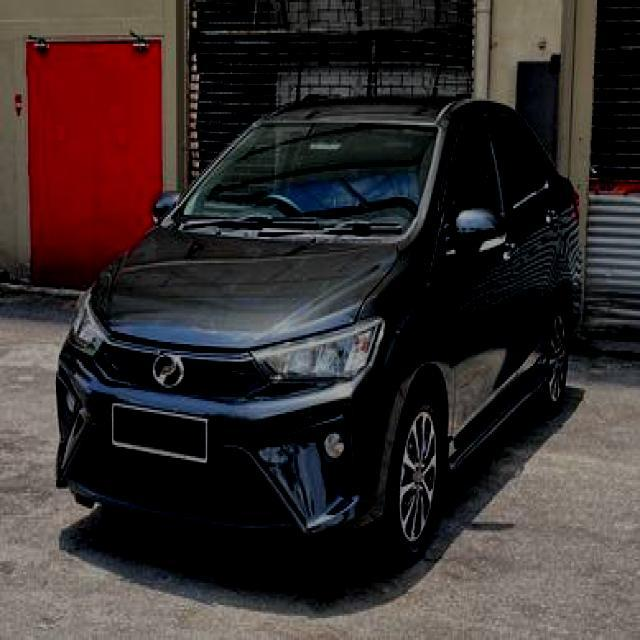PeroduaBezza: (53, 92, 585, 561)
